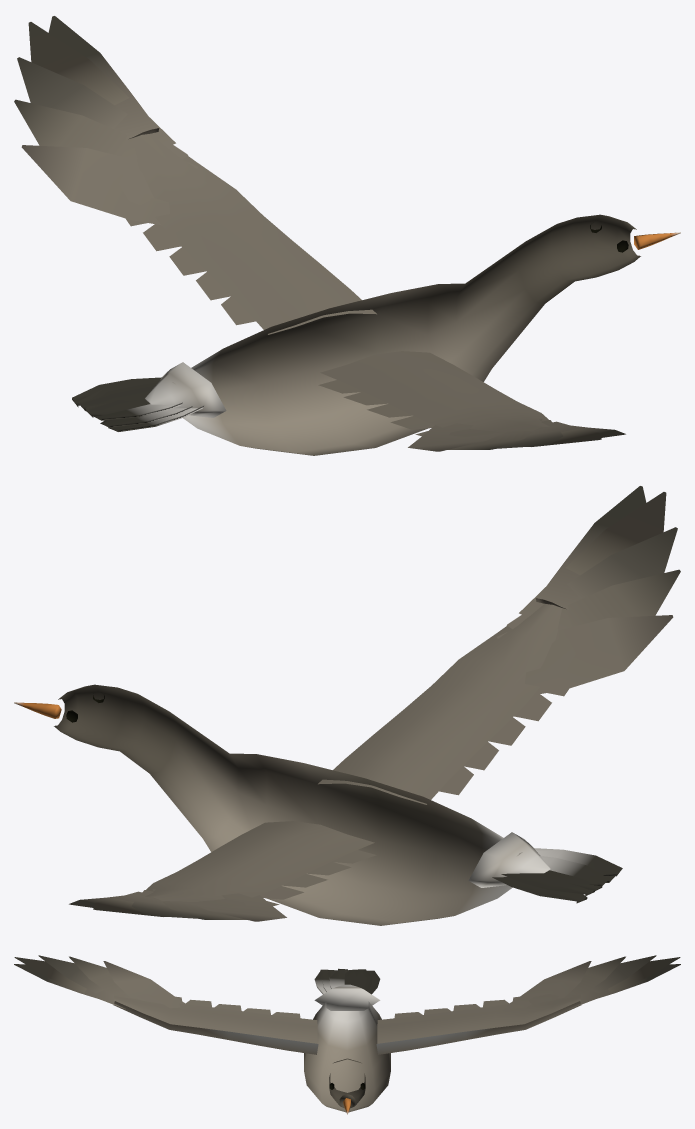
The model's file is SM_Bird_goose_flap1_LOD1.glb.
The picture shows the model from 3 angles, top to bottom: view 1: azimuth 30°, elevation 25°; view 2: azimuth 150°, elevation 25°; view 3: azimuth 270°, elevation 25°; orthographic projection. The views are drawn at different scales.
Visible parts, largest first — view 1: SM_Bird_goose_flap1_LOD1; view 2: SM_Bird_goose_flap1_LOD1; view 3: SM_Bird_goose_flap1_LOD1.
Boxes of the visible parts, <box> form: SM_Bird_goose_flap1_LOD1: <box>14,16,680,455</box>; SM_Bird_goose_flap1_LOD1: <box>14,486,680,925</box>; SM_Bird_goose_flap1_LOD1: <box>14,955,680,1114</box>.
Size of the model in its own units: 0.8762 by 0.3193 by 1.48.
